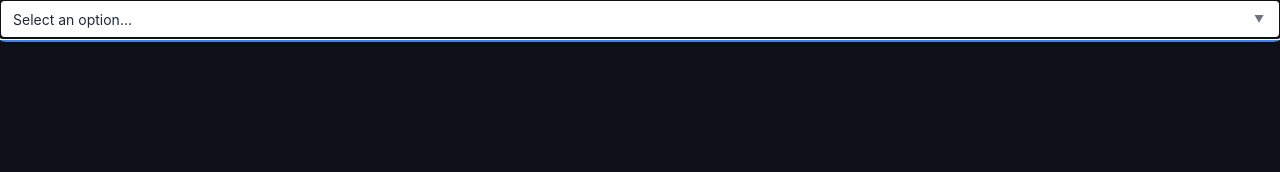
it: UIForgeComboBox › Static Options › closes dropdown after selection
Press Arrowdown
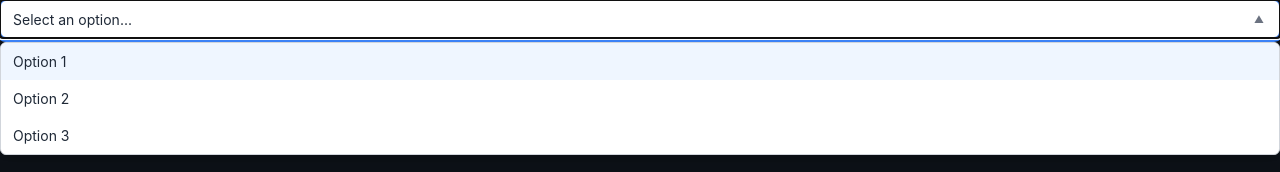
Click the option "Option 1" at point(40, 62), box [1, 43, 1279, 80]
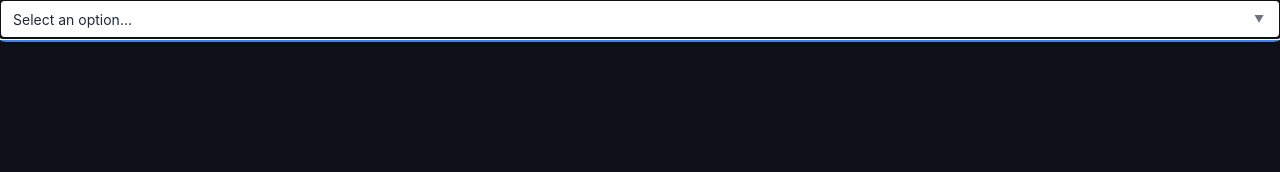
Now the list is gone
